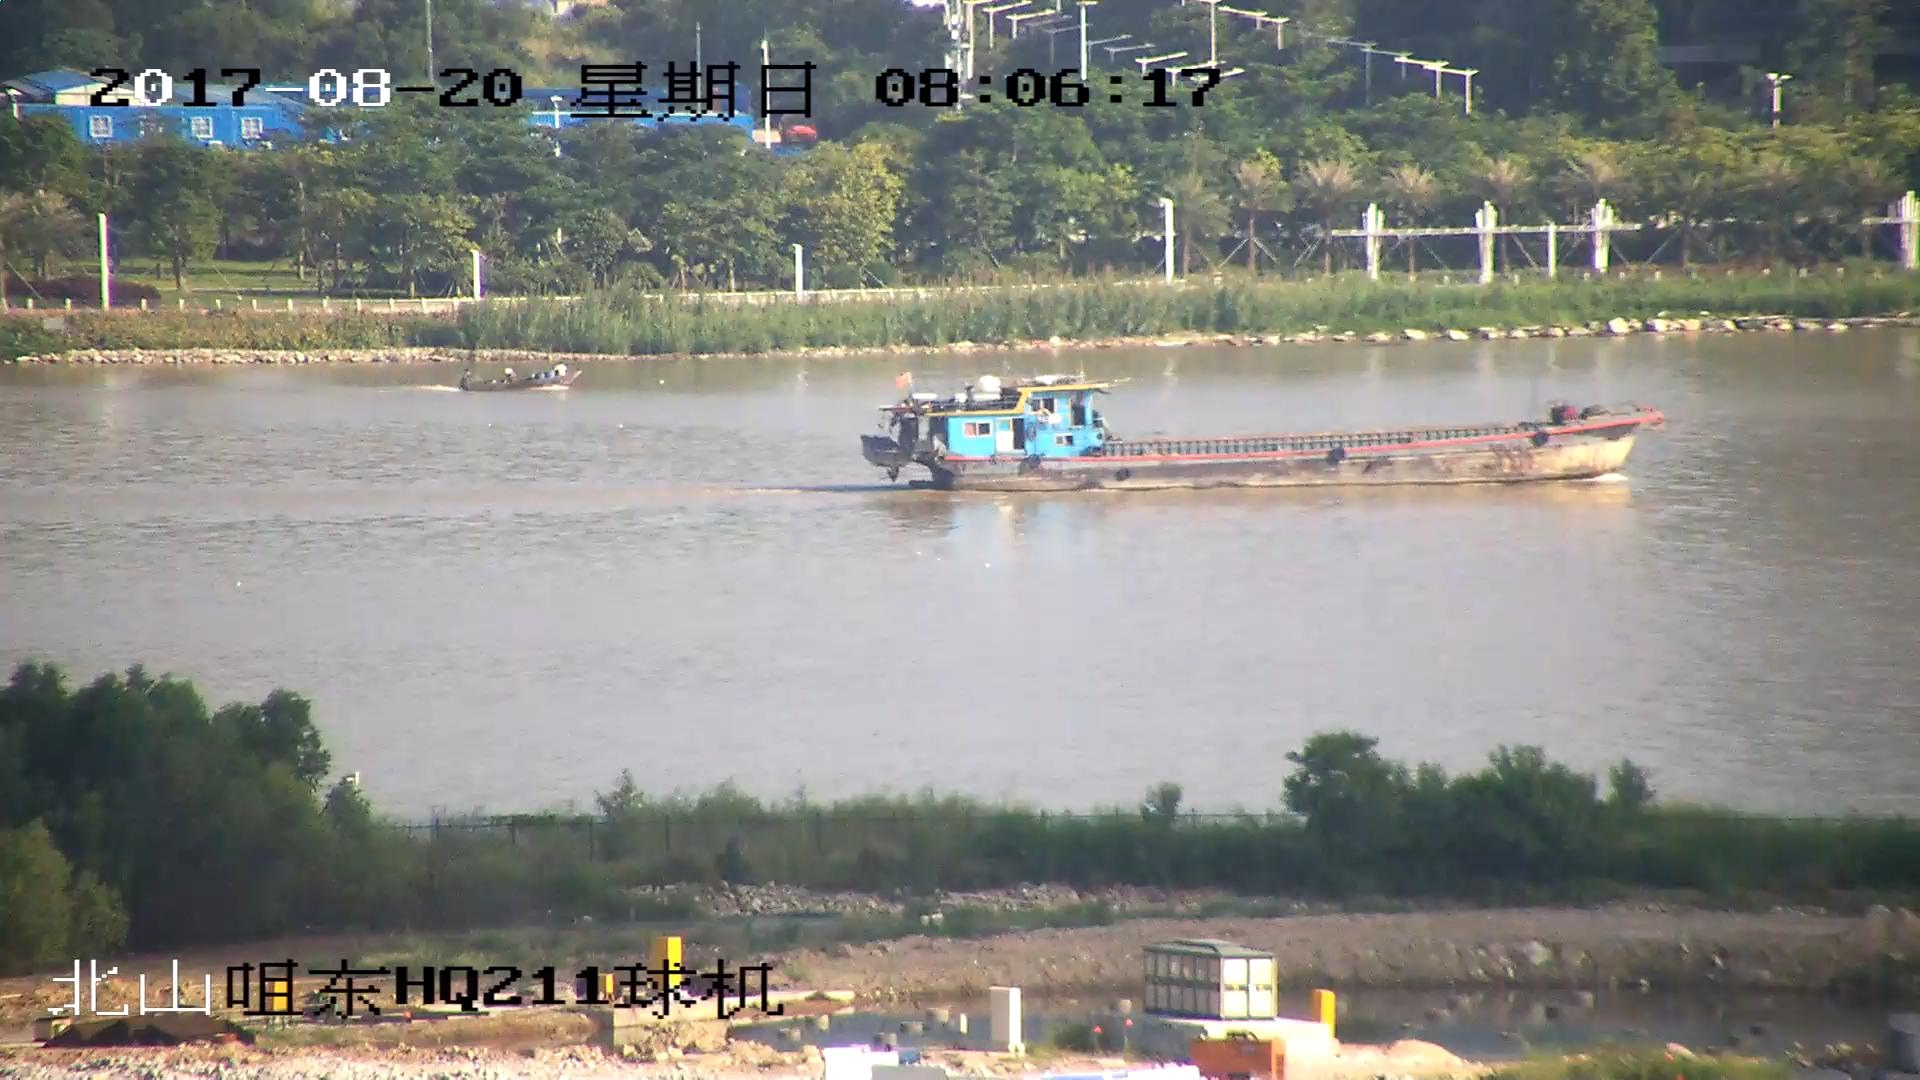fishing boat: (859, 377, 1666, 490), (463, 364, 575, 392)
